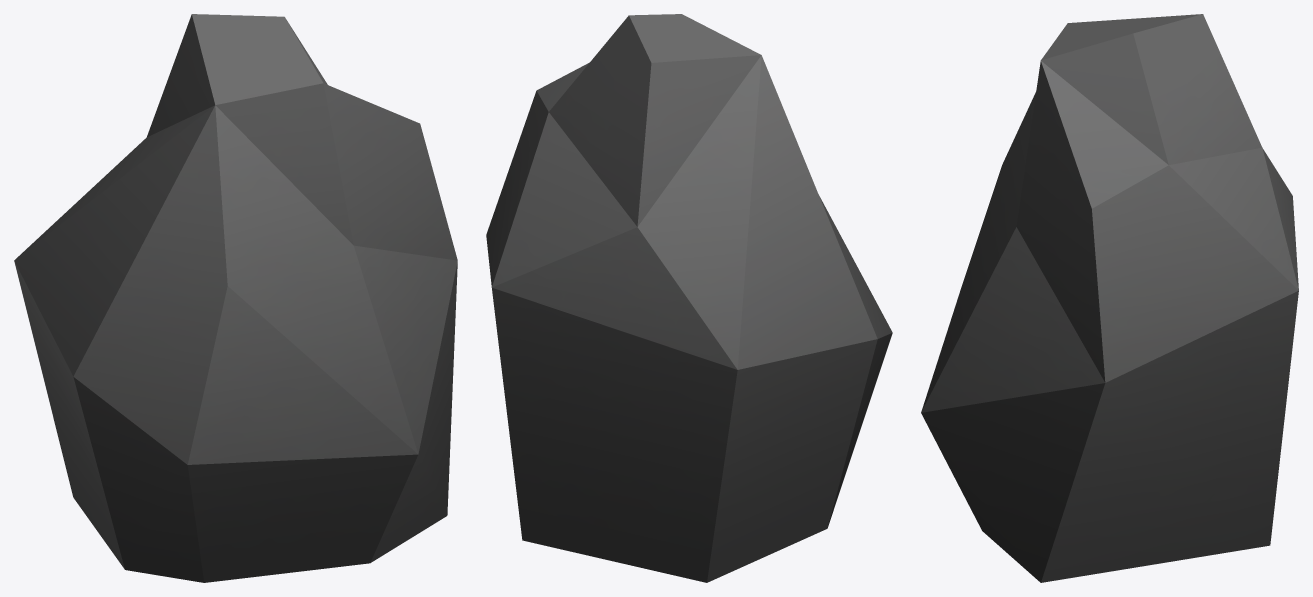
The model's file is rocher01_01.FBX.
3 renders of one model, left to right at view 1: azimuth 30°, elevation 25°; view 2: azimuth 150°, elevation 25°; view 3: azimuth 270°, elevation 25°, orthographic.
Parts seen in each view (by area): view 1: rocher01_LOD00; view 2: rocher01_LOD00; view 3: rocher01_LOD00.
Boxes of the visible parts, box(x1,y1,x2,y2) form: rocher01_LOD00: box(14, 14, 457, 582); rocher01_LOD00: box(486, 14, 892, 582); rocher01_LOD00: box(921, 14, 1298, 582).
Size of what is drawn, in the model's own units: 1.21 by 1.46 by 1.01.
